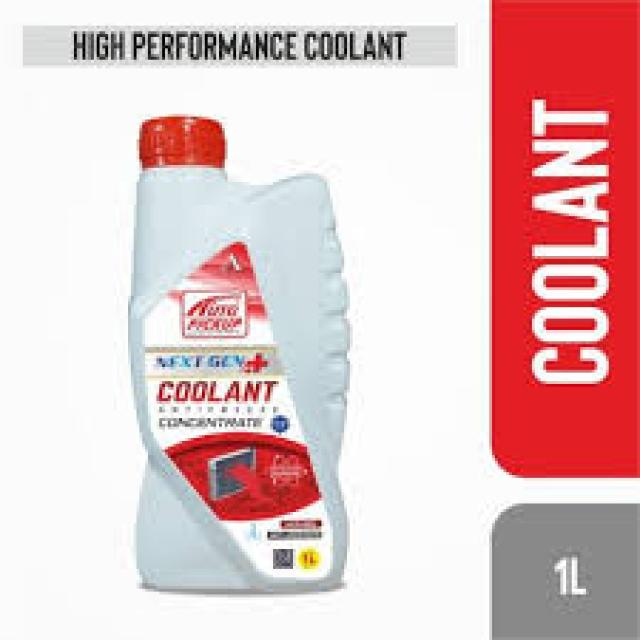coolant: (115, 100, 356, 600)
